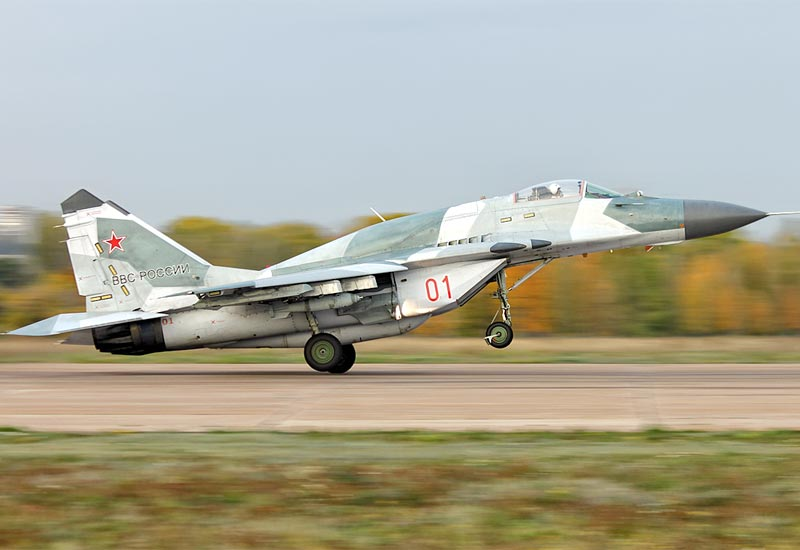Mig-29: (16, 121, 785, 363)
